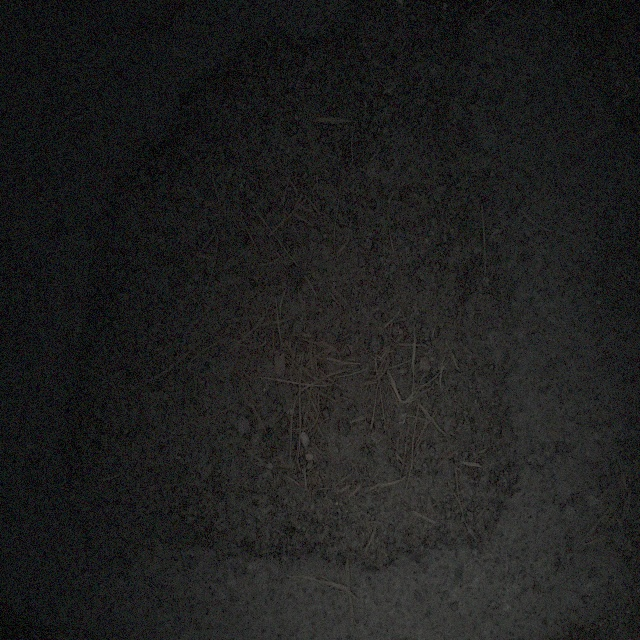pothole: (56, 39, 522, 579)
